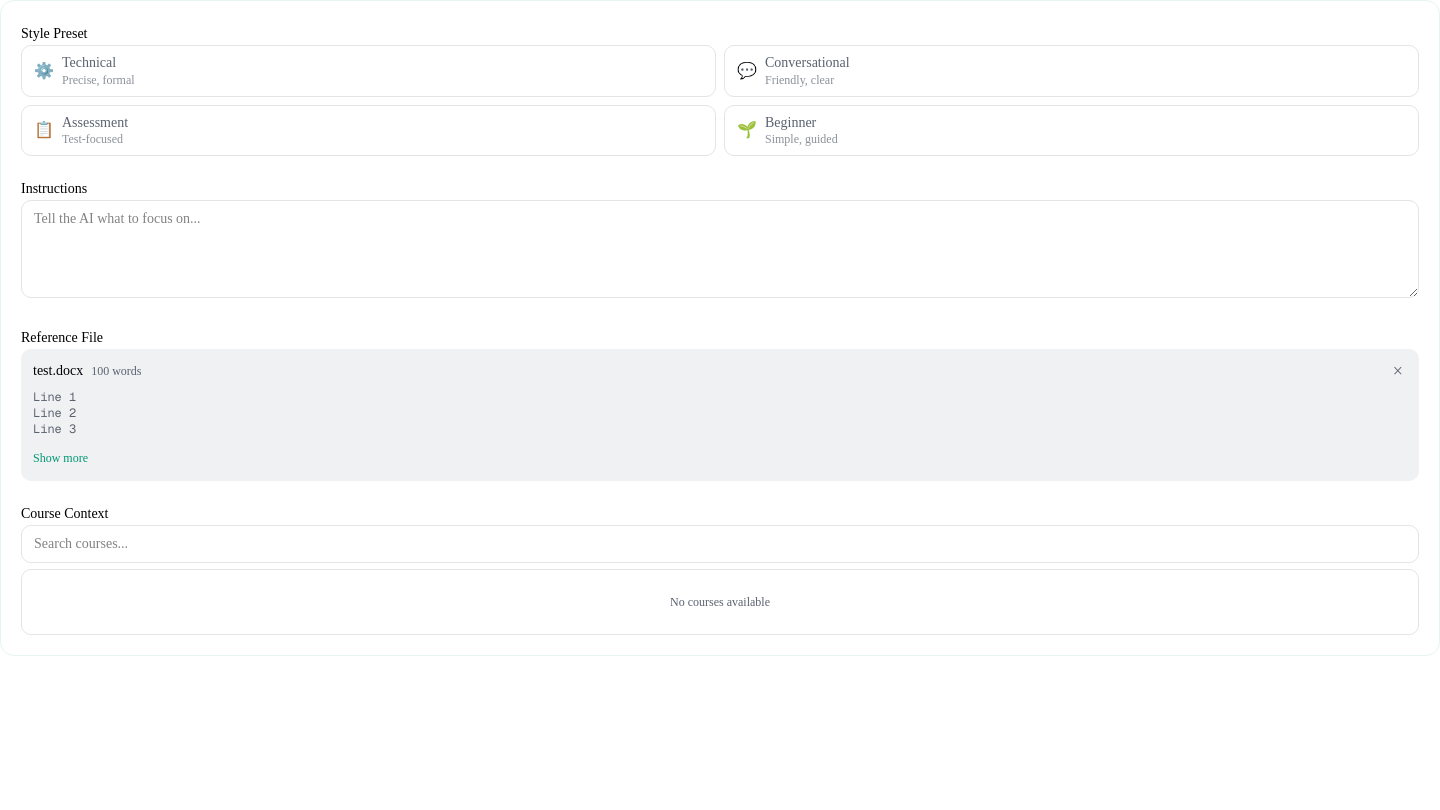
Test case: AiContextPanel › File Upload › toggles full preview on Show more / Show less
Click the button "Show more": (60, 458) [33,450,88,466]
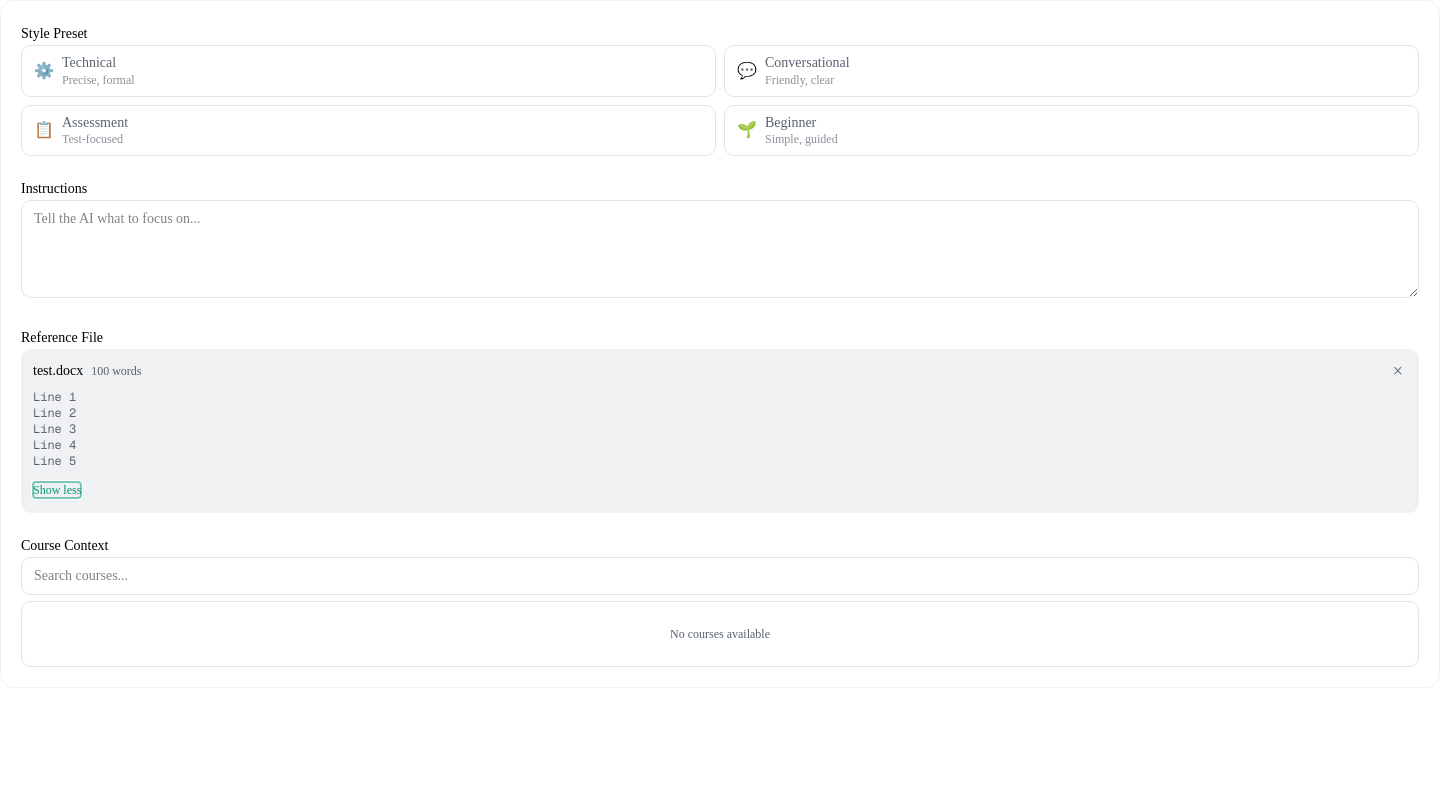
Expected: the button "Show less" is shown, [33,482,81,498]
